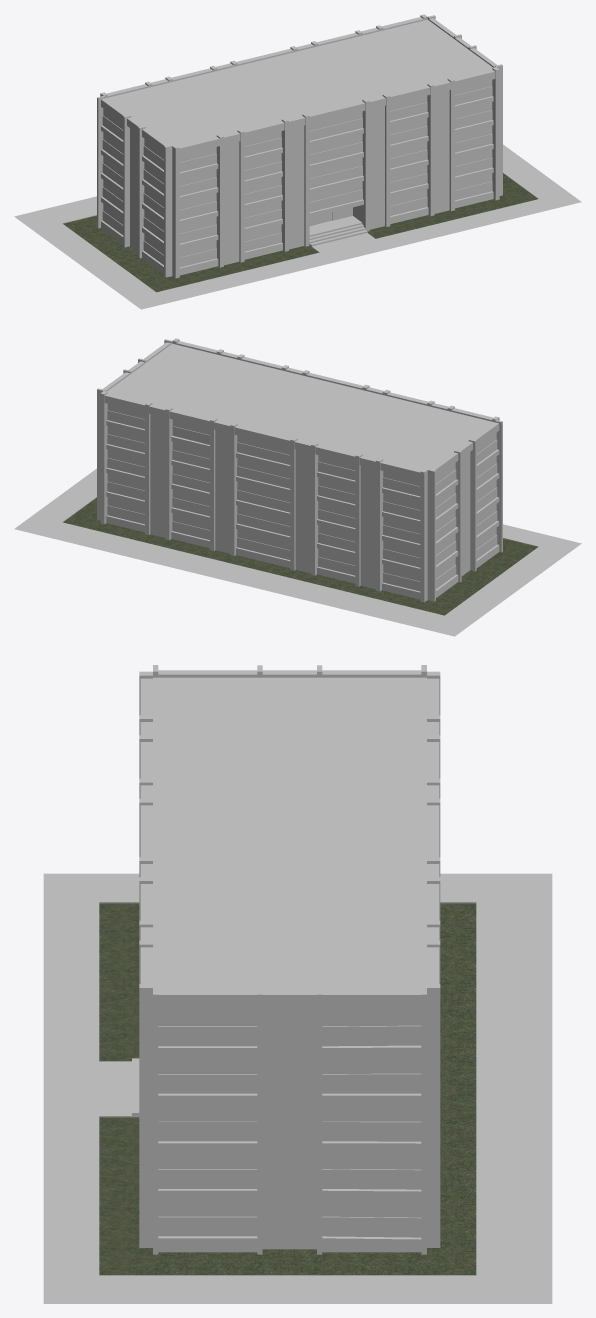
The picture shows the model from 3 angles, top to bottom: view 1: azimuth 30°, elevation 25°; view 2: azimuth 150°, elevation 25°; view 3: azimuth 270°, elevation 25°; orthographic projection. The views are drawn at different scales.
Visible parts, largest first — view 1: BB-055; view 2: BB-055; view 3: BB-055.
Part boxes in pixels (x1,y1,x2,y2): BB-055: (14,14,581,309); BB-055: (14,338,581,636); BB-055: (43,665,552,1303).
Size of what is drawn, in the model's own units: 7200 by 2030 by 3600.
